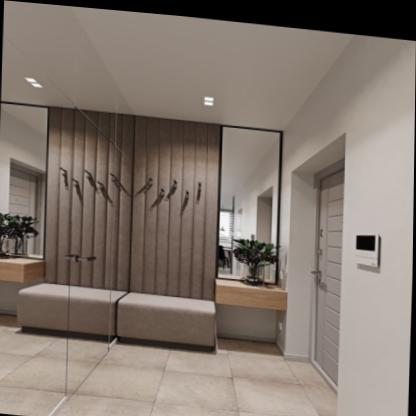Ceramic floor: (0, 324, 338, 416)
Wall Panel: (0, 101, 280, 299)
